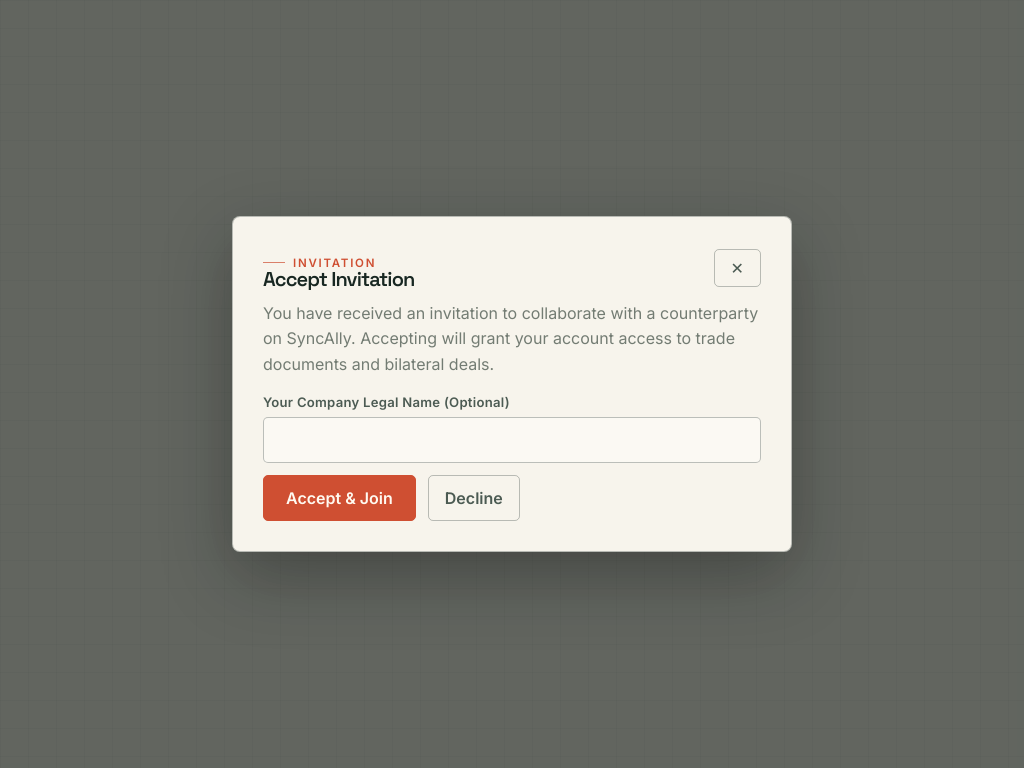
OrganizationsSettingsPage › displays an error message when accepting an invalid or expired invitation
Click the button "Accept & Join". click: [339, 498]
box: [263, 475, 416, 521]
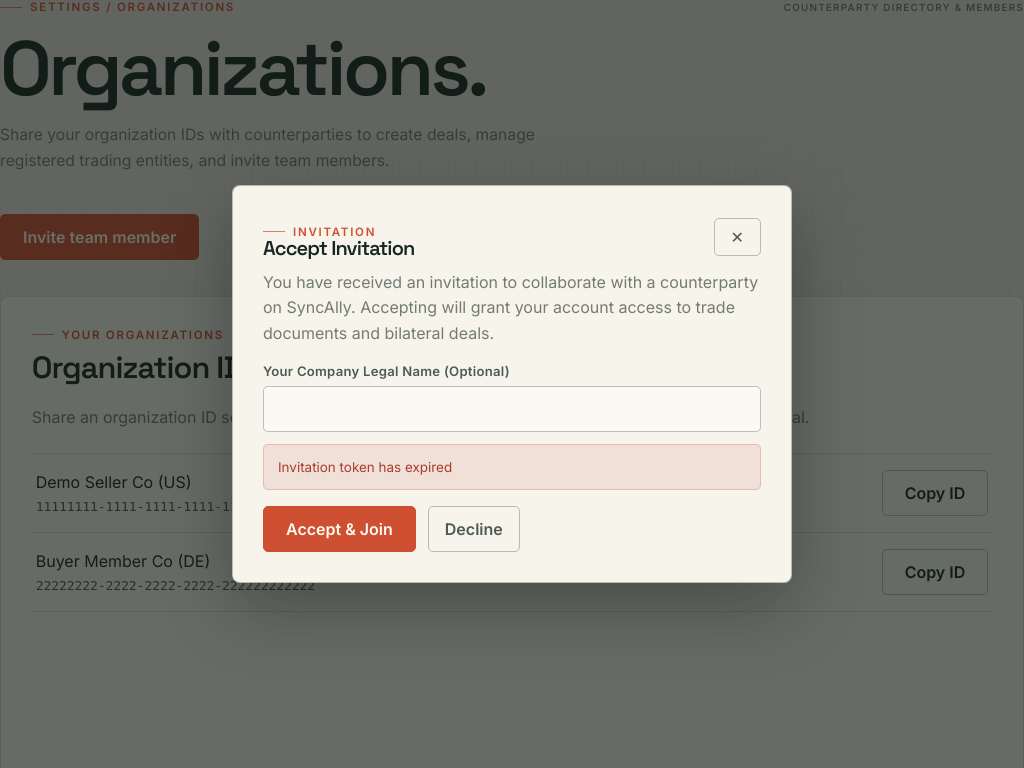
Expected: the text "Invitation token has expired" is shown, [263, 444, 761, 490]
